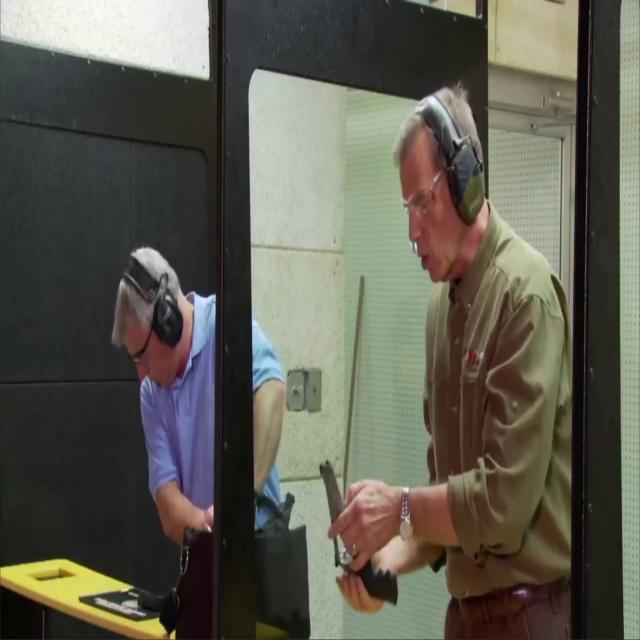gun: (318, 460, 398, 606)
